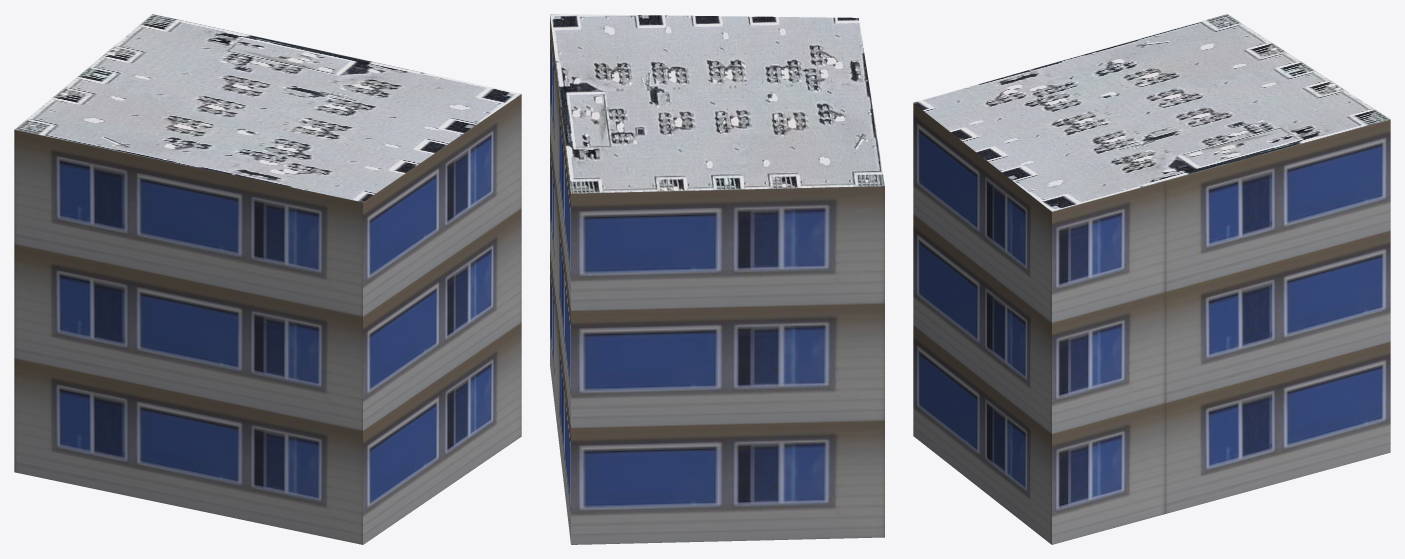
File: ResTex__1475.fbx
3 views of the same model, side by side, from view 1: azimuth 30°, elevation 25°; view 2: azimuth 150°, elevation 25°; view 3: azimuth 270°, elevation 25° (orthographic). The views are drawn at different scales.
Parts seen in each view (by area): view 1: CityEngineMaterial_23_m, CityEngineMaterial_4_m; view 2: CityEngineMaterial_23_m, CityEngineMaterial_4_m; view 3: CityEngineMaterial_23_m, CityEngineMaterial_4_m.
Part boxes in pixels (bbox=[...]): CityEngineMaterial_23_m: bbox=[14, 94, 521, 544]; CityEngineMaterial_4_m: bbox=[15, 14, 520, 202]; CityEngineMaterial_23_m: bbox=[550, 15, 884, 544]; CityEngineMaterial_4_m: bbox=[550, 14, 884, 193]; CityEngineMaterial_23_m: bbox=[913, 103, 1390, 544]; CityEngineMaterial_4_m: bbox=[913, 14, 1390, 211].
Bounding box in the file's own units: 11.46 × 9 × 11.69.
2 materials, 2 textured.
